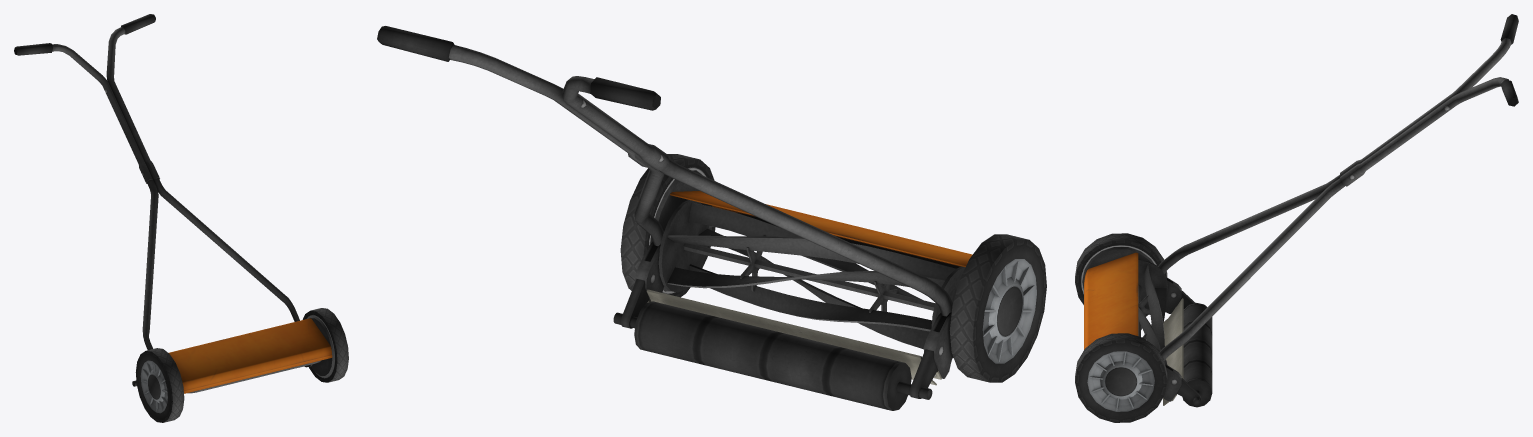
File: LawnMover01.gltf
The picture shows the model from 3 angles, left to right: view 1: azimuth 30°, elevation 25°; view 2: azimuth 150°, elevation 25°; view 3: azimuth 270°, elevation 25°; orthographic projection. The views are drawn at different scales.
Parts seen in each view (by area): view 1: LawnMover01; view 2: LawnMover01; view 3: LawnMover01.
Part boxes in pixels (x1=…): LawnMover01: x1=14, y1=14, x2=348, y2=422; LawnMover01: x1=377, y1=26, x2=1046, y2=410; LawnMover01: x1=1075, y1=14, x2=1518, y2=422.
Bounding box in the file's own units: 7.2 × 9.88 × 12.63.
Materials: 1 (1 with a texture image).
